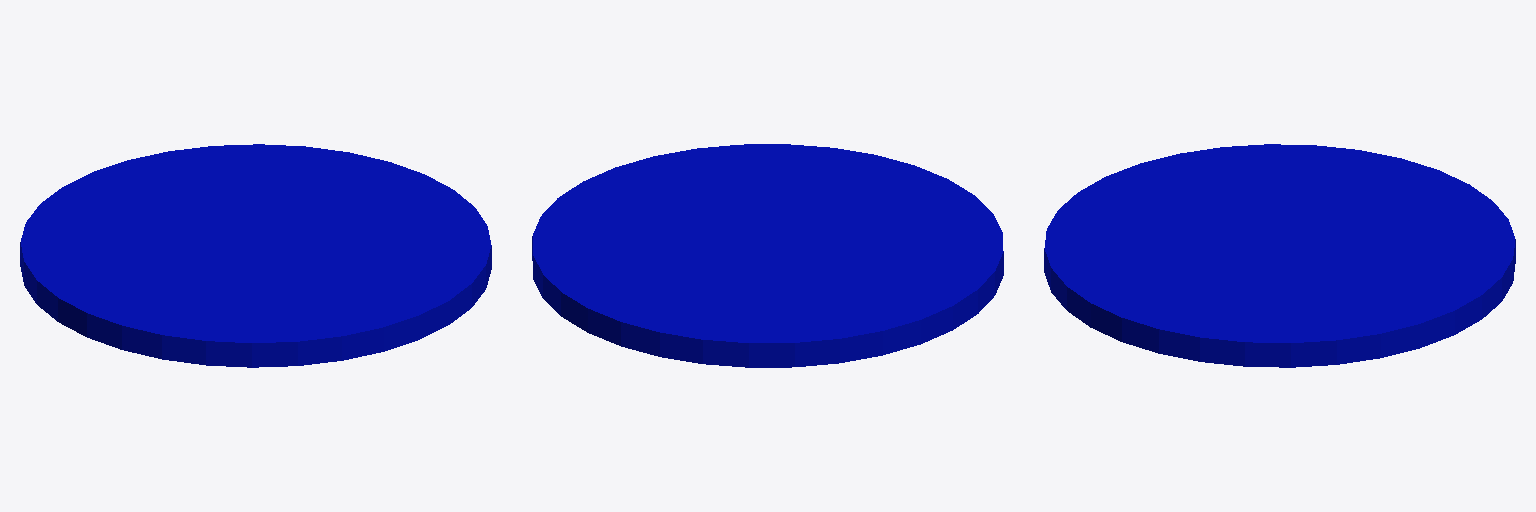
robot.urdf — Interference:
<?xml version="1.0"?>
<robot name="Interference">
  <link name="baseLink">
    <inertial>
      <origin xyz="0.0 0.0 0.0" rpy="0.0 0.0 0.0"/>
      <inertia ixx="0.0" ixy="0.0" ixz="0.0" iyy="0.0" iyz="0.0" izz="0.0"/>
      <mass value="0"/>
    </inertial>
    <visual>
      <origin xyz="0.0 0.0 0.0" rpy="0.0 0.0 0.24507898269847628"/>
      <geometry>
        <cylinder radius="0.0873766692693967" length="0.01"/>
      </geometry>
      <material name="color">
        <color rgba="0.029625167018316634 0.09009035239892127 0.7712384879180341 1.0"/>
      </material>
    </visual>
  </link>
</robot>

--- Render facts (derived) ---
The picture shows the robot from 3 angles, left to right: view 1: azimuth 30°, elevation 25°; view 2: azimuth 150°, elevation 25°; view 3: azimuth 270°, elevation 25°; orthographic projection.
Robot: Interference — 1 links, 0 joints (none); root link baseLink; default pose: every joint at zero.
Visible links, largest first — view 1: baseLink; view 2: baseLink; view 3: baseLink.
Boxes of the visible links, x1,y1,x2,y2 form: baseLink: [20, 144, 491, 367]; baseLink: [532, 144, 1003, 367]; baseLink: [1044, 144, 1515, 367].
Size in the robot's own frame: 0.1745 by 0.1745 by 0.01 metres.
Geometry: primitives only (box / cylinder / sphere), no mesh files.